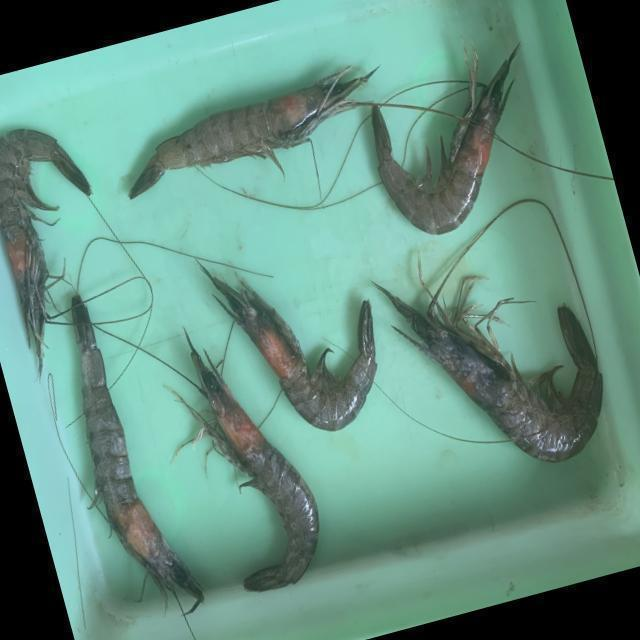shrimp: (373, 225, 603, 463), (71, 295, 203, 615), (172, 330, 319, 592), (128, 66, 376, 197), (202, 268, 377, 431), (372, 43, 520, 234), (0, 128, 90, 375)
